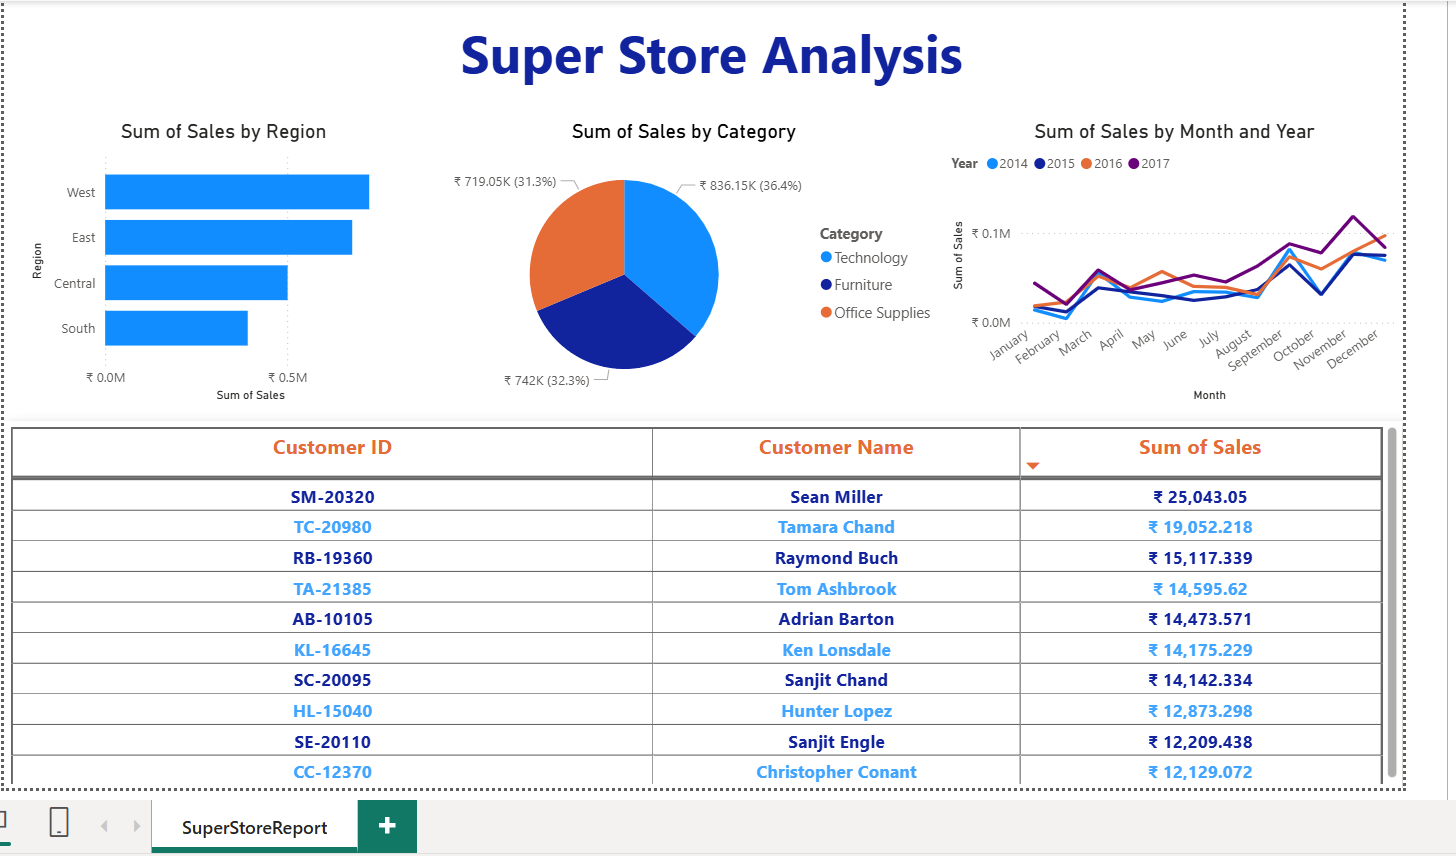

What the dashboard file says about the page in this screenshot:
{"tool":"powerbi","page":{"name":"SuperStoreReport","canvas":[1280,720],"ordinal":0},"visuals":[{"type":"barChart","fields":{"Category":["Sample - Superstore.Region"],"Y":["SuperStoreSample.Sales"]},"box":[19.7,98.4,363.4,277.1],"z":0},{"type":"textbox","box":[0,0,1279.4,98.3],"z":1000},{"type":"pieChart","fields":{"Y":["SuperStoreSample.Sales"],"Category":["SuperStoreSample.Category"]},"box":[383.1,98.4,478.5,277.1],"z":2000},{"type":"tableEx","fields":{"Values":["SuperStoreSample.Customer ID","SuperStoreSample.Customer Name","SuperStoreSample.Sales"]},"box":[0,384.6,1279.5,336.2],"z":3000},{"type":"lineChart","fields":{"Y":["SuperStoreSample.Sales"],"Category":["SuperStoreSample.MonthYear.Variation.Date Hierarchy.Month"],"Series":["SuperStoreSample.MonthYear.Variation.Date Hierarchy.Year"]},"box":[861.6,98.4,417.9,277.1],"z":4000}]}

Visuals, with their boxes on the page's 1280x720 design canvas (x1, y1, x2, y2). These are canvas units, not pixel positions in the 1456x856 screenshot, which may show the page scaled, cropped or inside an application window:
barChart - Sample - Superstore.Region x SuperStoreSample.Sales: x1=20, y1=98, x2=383, y2=376
textbox: x1=0, y1=0, x2=1279, y2=98
pieChart - SuperStoreSample.Sales x SuperStoreSample.Category: x1=383, y1=98, x2=862, y2=376
tableEx - SuperStoreSample.Customer ID x SuperStoreSample.Customer Name: x1=0, y1=385, x2=1280, y2=721
lineChart - SuperStoreSample.Sales x SuperStoreSample.MonthYear.Variation.Date Hierarchy.Month: x1=862, y1=98, x2=1280, y2=376
